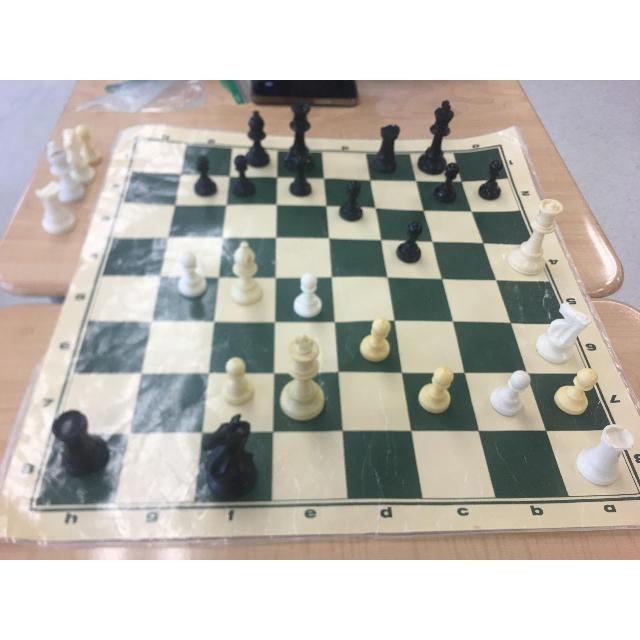black-bishop: (241, 109, 273, 157)
black-king: (425, 98, 458, 170)
black-knight: (189, 409, 263, 492)
black-pawn: (179, 147, 220, 195), (230, 149, 266, 199), (285, 148, 317, 202), (392, 209, 424, 261), (339, 176, 373, 223), (477, 153, 511, 200), (432, 163, 464, 201)
black-queen: (282, 94, 319, 156)
black-rook: (46, 406, 122, 476), (374, 121, 403, 174)
white-bishop: (220, 235, 269, 312)
white-king: (270, 331, 332, 430)
white-knight: (535, 295, 585, 359)
white-pawn: (549, 362, 601, 416), (485, 355, 527, 421), (414, 359, 457, 423), (349, 308, 397, 364), (216, 349, 259, 402), (288, 269, 329, 316), (181, 254, 216, 302)
white-queen: (505, 193, 575, 266)
white-rook: (573, 419, 629, 479)
